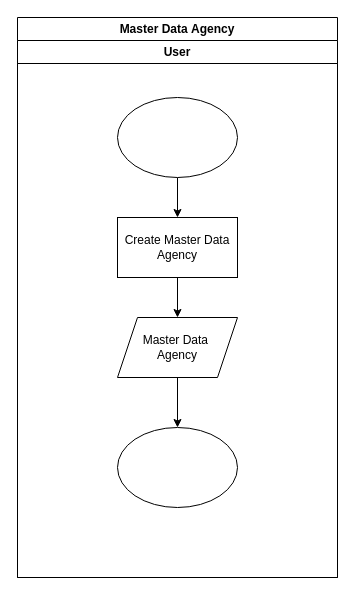
Some shapes in this 355 by 595 pixel diagram are drawn without their labels. The shapes that lost their labels are listed below. From the top down, each one's centre as x and y in pixels, then its label:
At pixel 177 137: "Start".
At pixel 177 467: "End".
